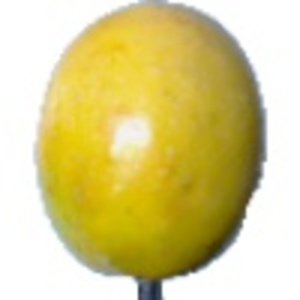maracujá: (34, 1, 268, 300)
